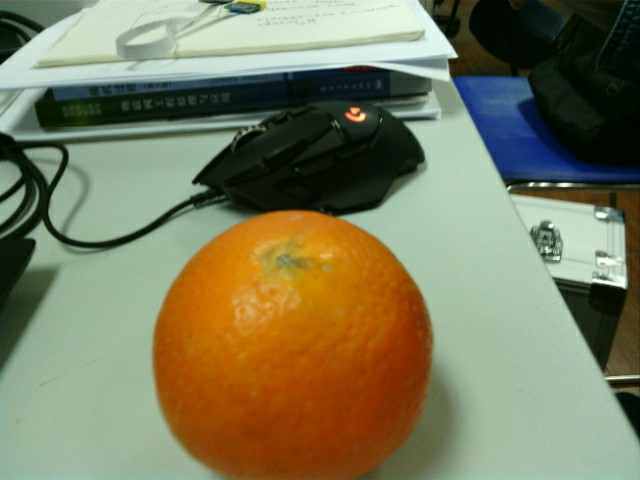normal_orange: (154, 208, 439, 480)
